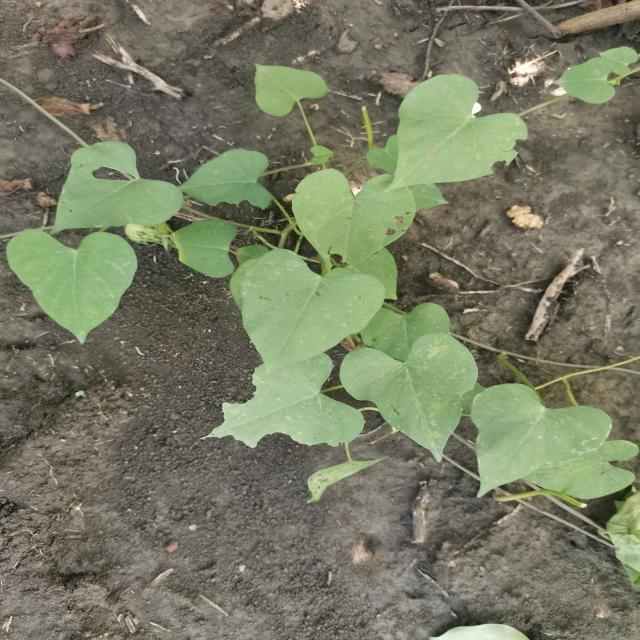MorningGlory: (7, 42, 638, 505)
